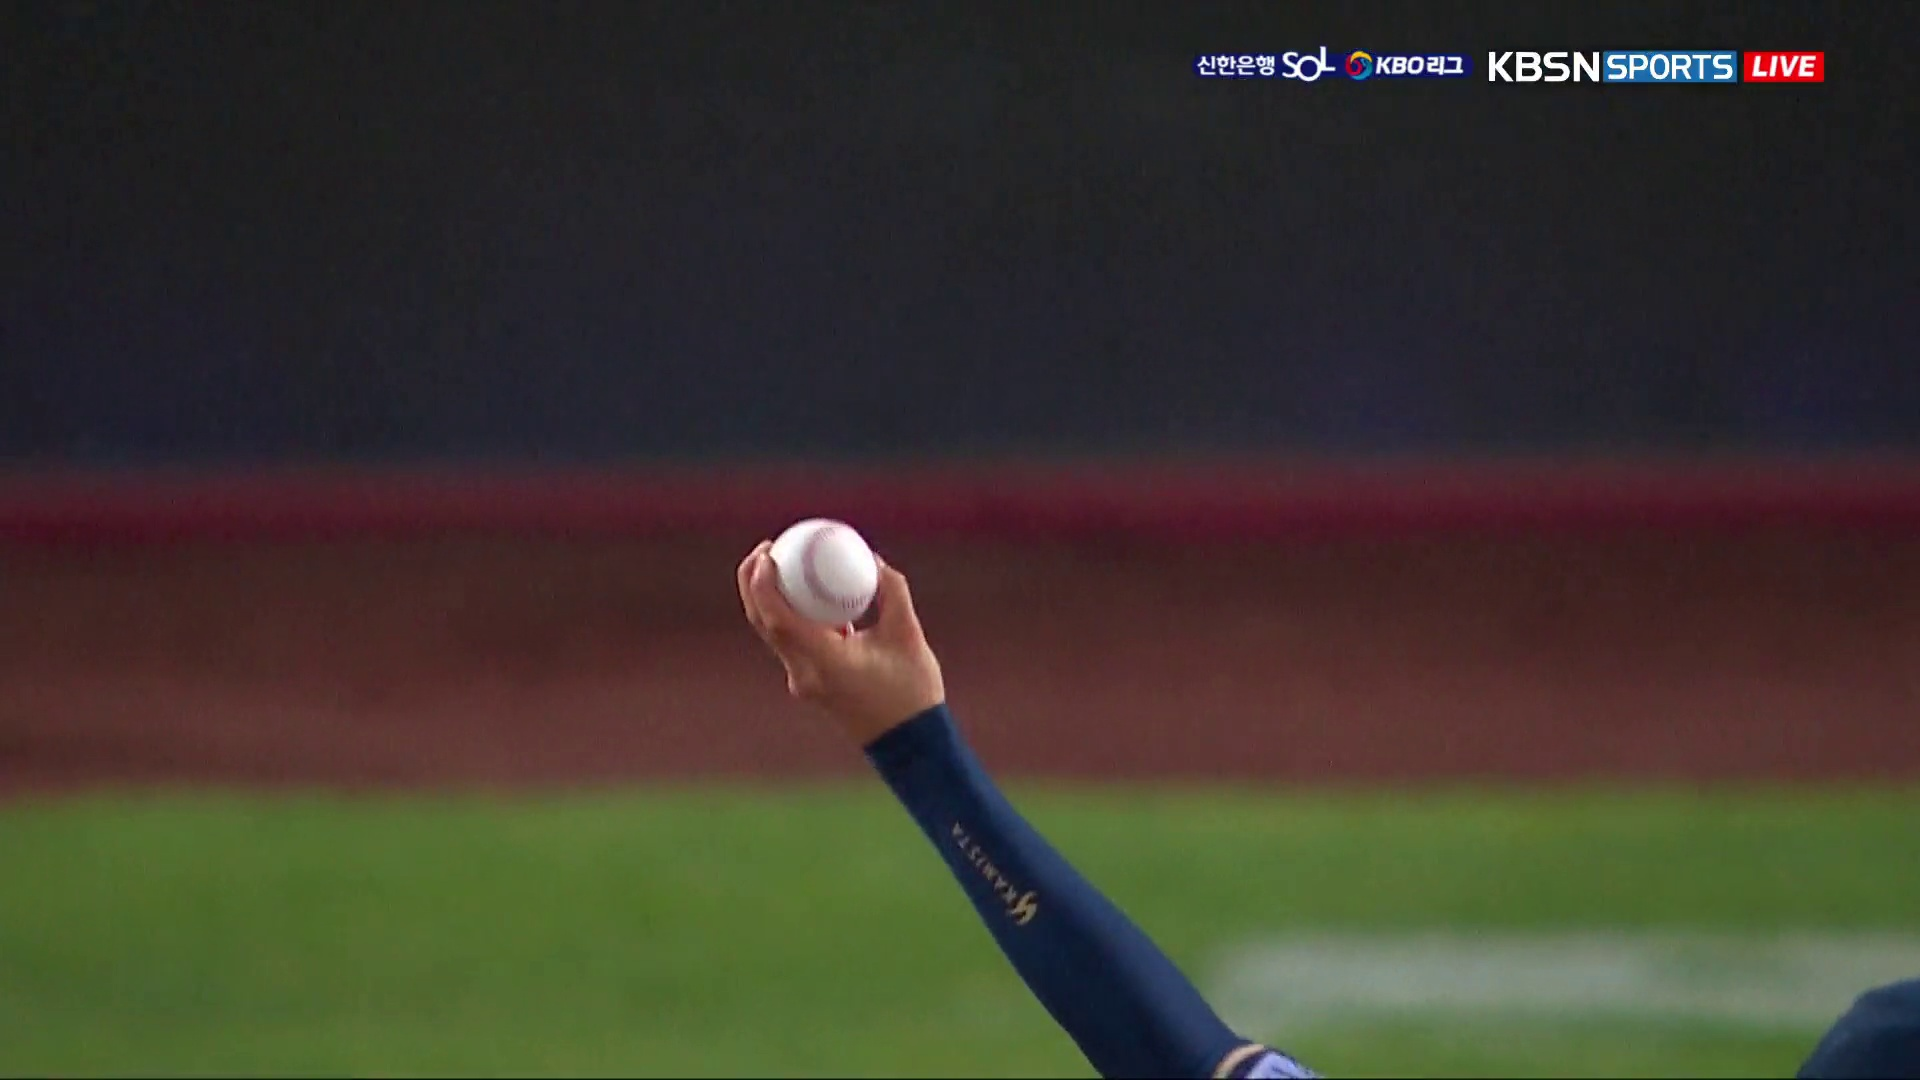zoomin_hand: (721, 502, 1278, 1080)
